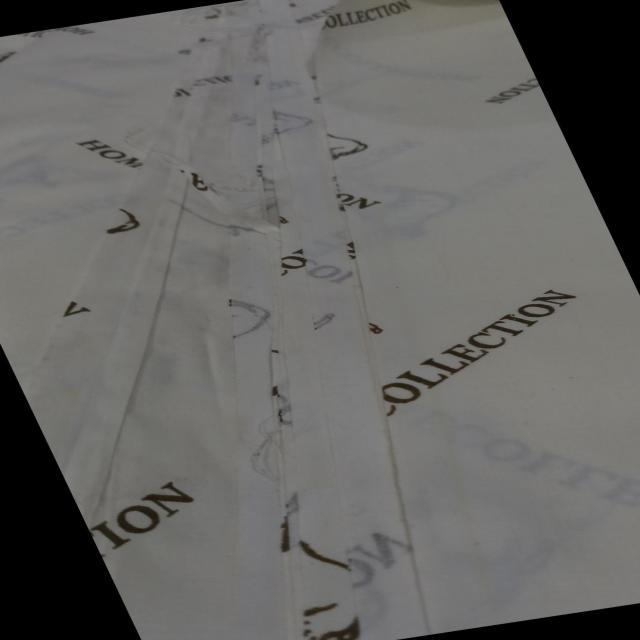cut: (138, 134, 294, 258)
